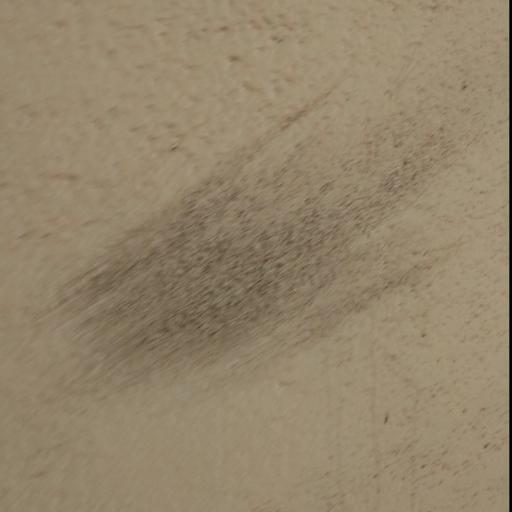stain: (28, 46, 489, 389)
